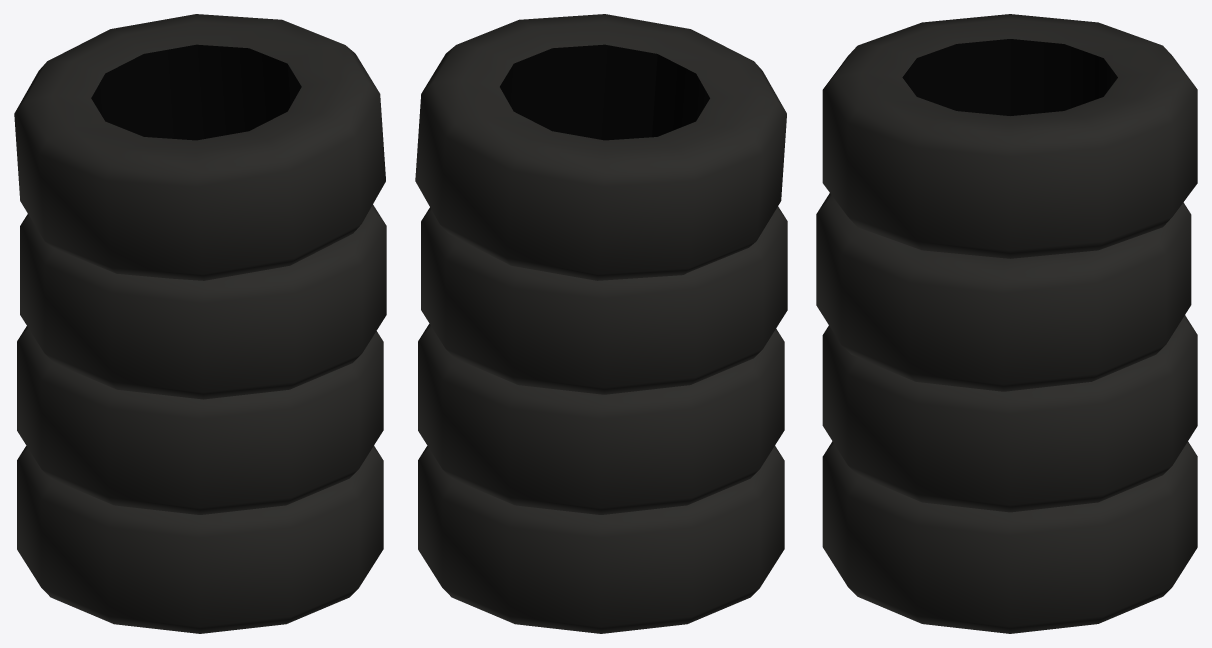
The model's file is Tires_black.FBX.
The picture shows the model from 3 angles, left to right: view 1: azimuth 30°, elevation 25°; view 2: azimuth 150°, elevation 25°; view 3: azimuth 270°, elevation 25°; orthographic projection. The views are drawn at different scales.
Parts seen in each view (by area): view 1: prop_tyre_stack_A; view 2: prop_tyre_stack_A; view 3: prop_tyre_stack_A.
Part boxes in pixels (left/top/right/bottom): prop_tyre_stack_A: left=14, top=14, right=386, bottom=633; prop_tyre_stack_A: left=415, top=14, right=787, bottom=633; prop_tyre_stack_A: left=816, top=14, right=1197, bottom=633.
Bounding box in the file's own units: 33.69 × 48.69 × 33.74.
